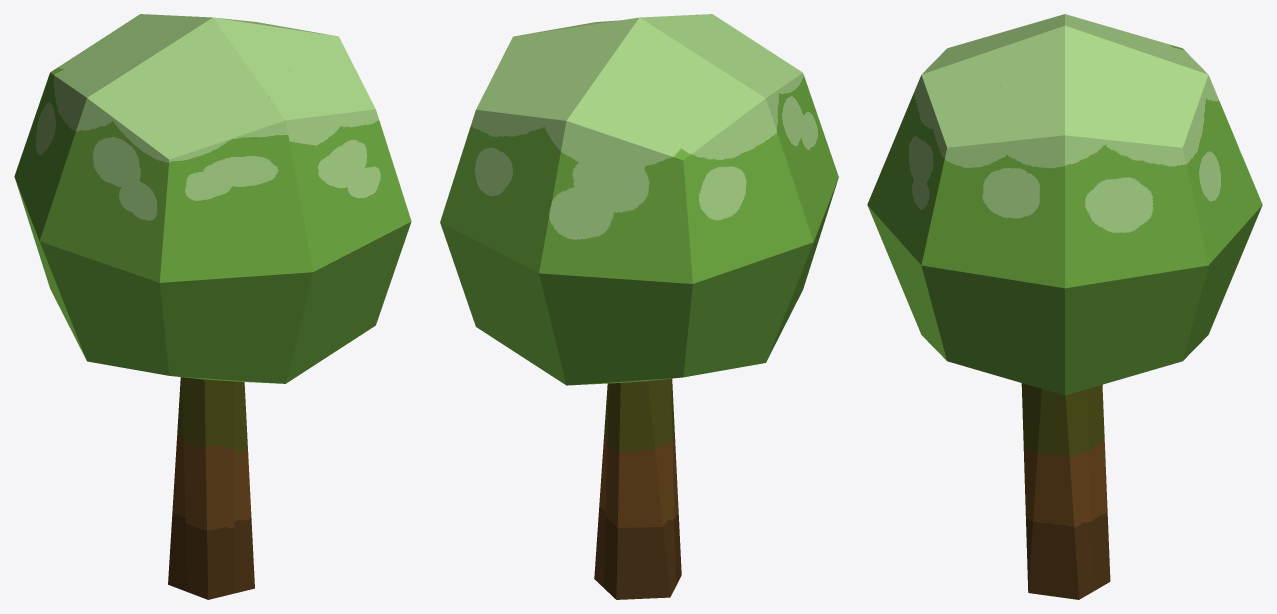
Rendered from tree.fbx.
The picture shows the model from 3 angles, left to right: view 1: azimuth 30°, elevation 25°; view 2: azimuth 150°, elevation 25°; view 3: azimuth 270°, elevation 25°; orthographic projection.
Parts seen in each view (by area): view 1: Cylinder; view 2: Cylinder; view 3: Cylinder.
Boxes of the visible parts, bbox=[...] form: Cylinder: bbox=[14, 14, 411, 599]; Cylinder: bbox=[440, 14, 838, 599]; Cylinder: bbox=[867, 14, 1262, 599].
Size of the model in its own units: 557 by 864 by 557.
1 material, 1 textured.
